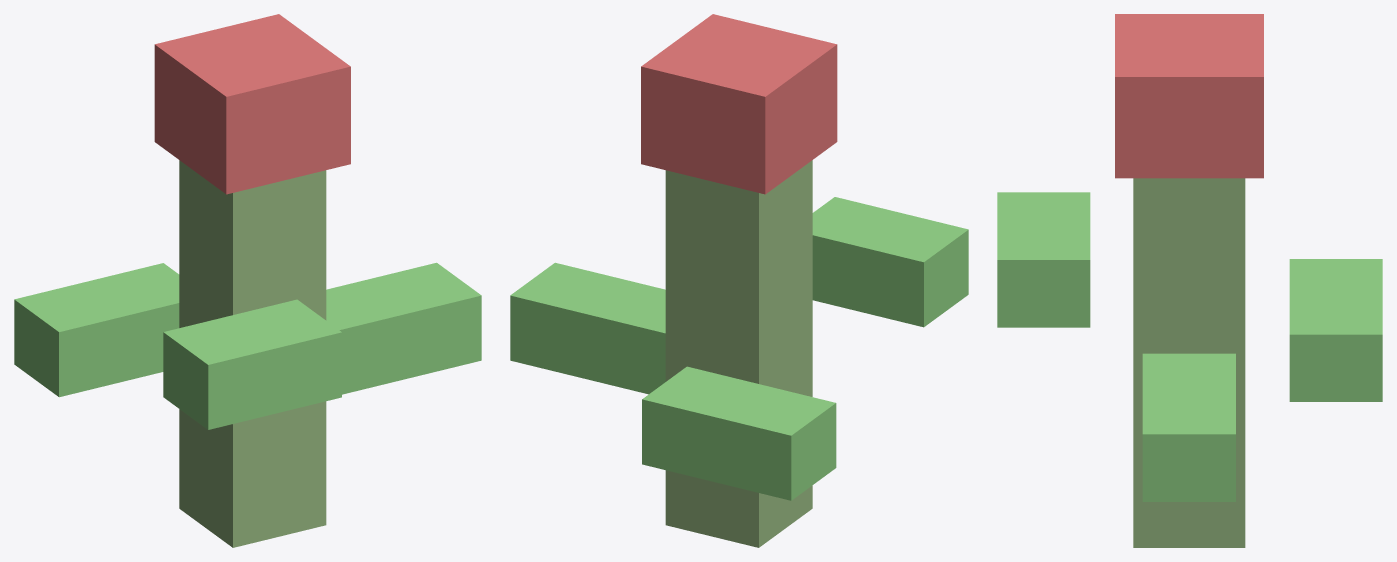
The model's file is Prop_Herb_AMF_Barkbalm_V1.glb.
The picture shows the model from 3 angles, left to right: view 1: azimuth 30°, elevation 25°; view 2: azimuth 150°, elevation 25°; view 3: azimuth 270°, elevation 25°; orthographic projection. The views are drawn at different scales.
Visible parts, largest first — view 1: Prop_Herb_AMF_Barkbalm_V1; view 2: Prop_Herb_AMF_Barkbalm_V1; view 3: Prop_Herb_AMF_Barkbalm_V1.
Part boxes in pixels (<box>): Prop_Herb_AMF_Barkbalm_V1: <box>14,14,481,547</box>; Prop_Herb_AMF_Barkbalm_V1: <box>510,14,968,547</box>; Prop_Herb_AMF_Barkbalm_V1: <box>997,14,1382,547</box>.
Size of the model in its own units: 0.2263 by 0.2836 by 0.2069.
